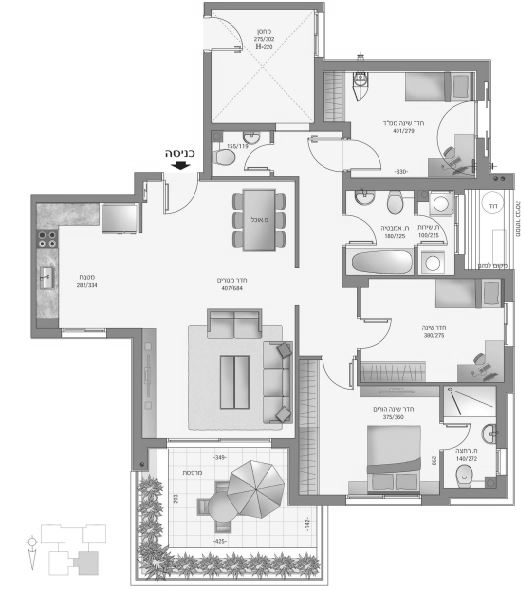wall: (313, 59, 489, 71), (341, 176, 477, 189), (202, 51, 212, 180), (30, 192, 38, 337), (132, 327, 142, 439), (30, 193, 141, 202), (203, 1, 324, 9), (496, 381, 507, 447), (288, 437, 298, 505), (440, 487, 508, 497), (203, 122, 276, 131), (313, 56, 322, 128), (287, 494, 345, 505), (132, 437, 166, 448), (313, 121, 350, 130), (29, 328, 62, 338), (270, 437, 298, 448)
